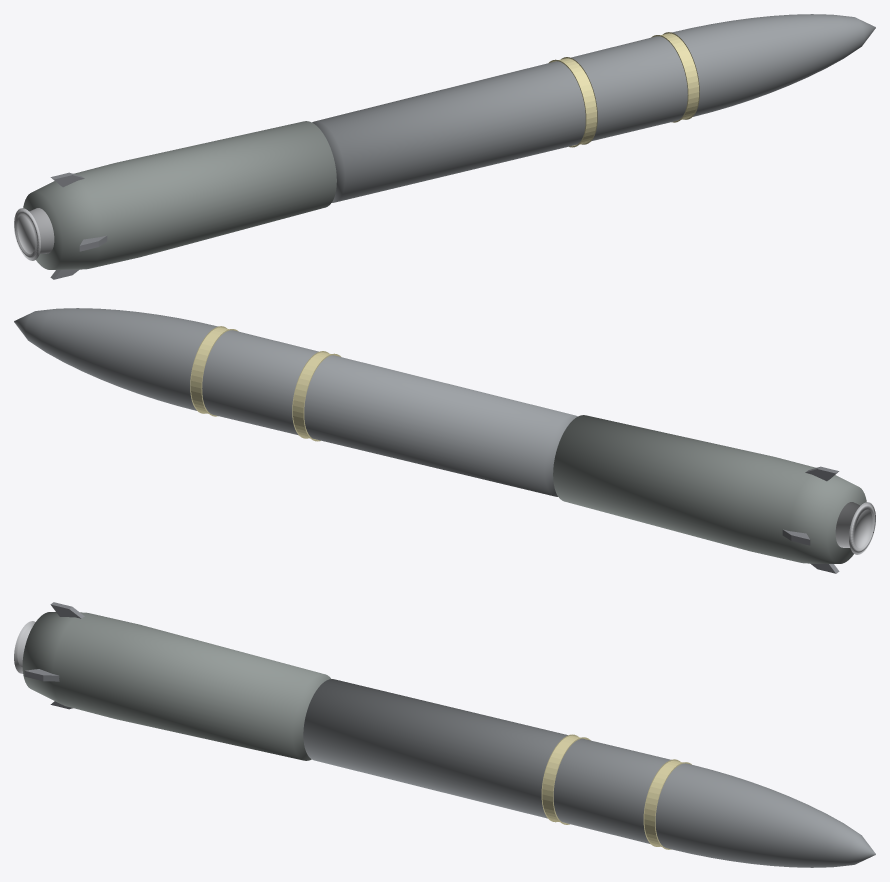
Rendered from RU_ASW_Vyuga_LOD0.fbx.
3 views of the same model, one above another, from view 1: azimuth 30°, elevation 25°; view 2: azimuth 150°, elevation 25°; view 3: azimuth 330°, elevation 25° (orthographic).
Parts seen in each view (by area): view 1: WPN_RU_ASW_Vyuga_LOD0_Body, WPN_RU_ASW_Vyuga_LOD0_Tail, WPN_RU_ASW_Vyuga_LOD0_Marking, WPN_RU_ASW_Vyuga_LOD0_Propulsor, WPN_RU_ASW_Vyuga_LOD0_Fins; view 2: WPN_RU_ASW_Vyuga_LOD0_Body, WPN_RU_ASW_Vyuga_LOD0_Tail, WPN_RU_ASW_Vyuga_LOD0_Marking, WPN_RU_ASW_Vyuga_LOD0_Propulsor, WPN_RU_ASW_Vyuga_LOD0_Fins; view 3: WPN_RU_ASW_Vyuga_LOD0_Body, WPN_RU_ASW_Vyuga_LOD0_Tail, WPN_RU_ASW_Vyuga_LOD0_Marking, WPN_RU_ASW_Vyuga_LOD0_Fins.
Boxes of the visible parts, box(x1,y1,x2,y2) form: WPN_RU_ASW_Vyuga_LOD0_Body: box(312, 14, 875, 202); WPN_RU_ASW_Vyuga_LOD0_Tail: box(23, 121, 336, 269); WPN_RU_ASW_Vyuga_LOD0_Marking: box(549, 32, 699, 147); WPN_RU_ASW_Vyuga_LOD0_Propulsor: box(14, 208, 54, 260); WPN_RU_ASW_Vyuga_LOD0_Fins: box(50, 172, 107, 279); WPN_RU_ASW_Vyuga_LOD0_Body: box(14, 308, 577, 496); WPN_RU_ASW_Vyuga_LOD0_Tail: box(553, 415, 866, 563); WPN_RU_ASW_Vyuga_LOD0_Marking: box(190, 326, 340, 441); WPN_RU_ASW_Vyuga_LOD0_Propulsor: box(835, 502, 875, 554); WPN_RU_ASW_Vyuga_LOD0_Fins: box(782, 466, 839, 573); WPN_RU_ASW_Vyuga_LOD0_Body: box(303, 679, 875, 867); WPN_RU_ASW_Vyuga_LOD0_Tail: box(22, 612, 330, 760); WPN_RU_ASW_Vyuga_LOD0_Marking: box(541, 734, 691, 849); WPN_RU_ASW_Vyuga_LOD0_Fins: box(24, 602, 84, 709).
Size of the model in its own units: 6 by 0.6761 by 0.6761.
